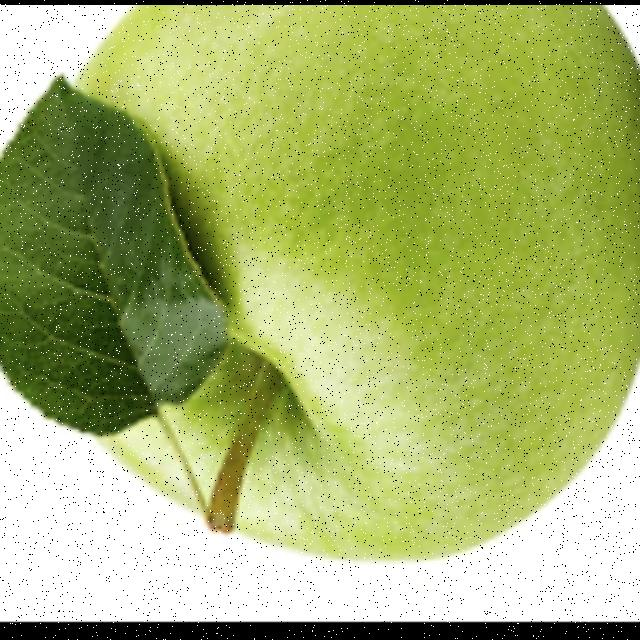Apel Segar: (0, 3, 640, 563)
